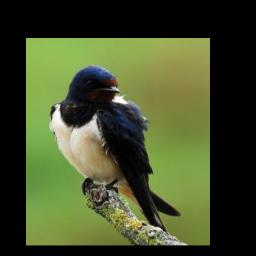Swallow: (48, 64, 183, 234)
